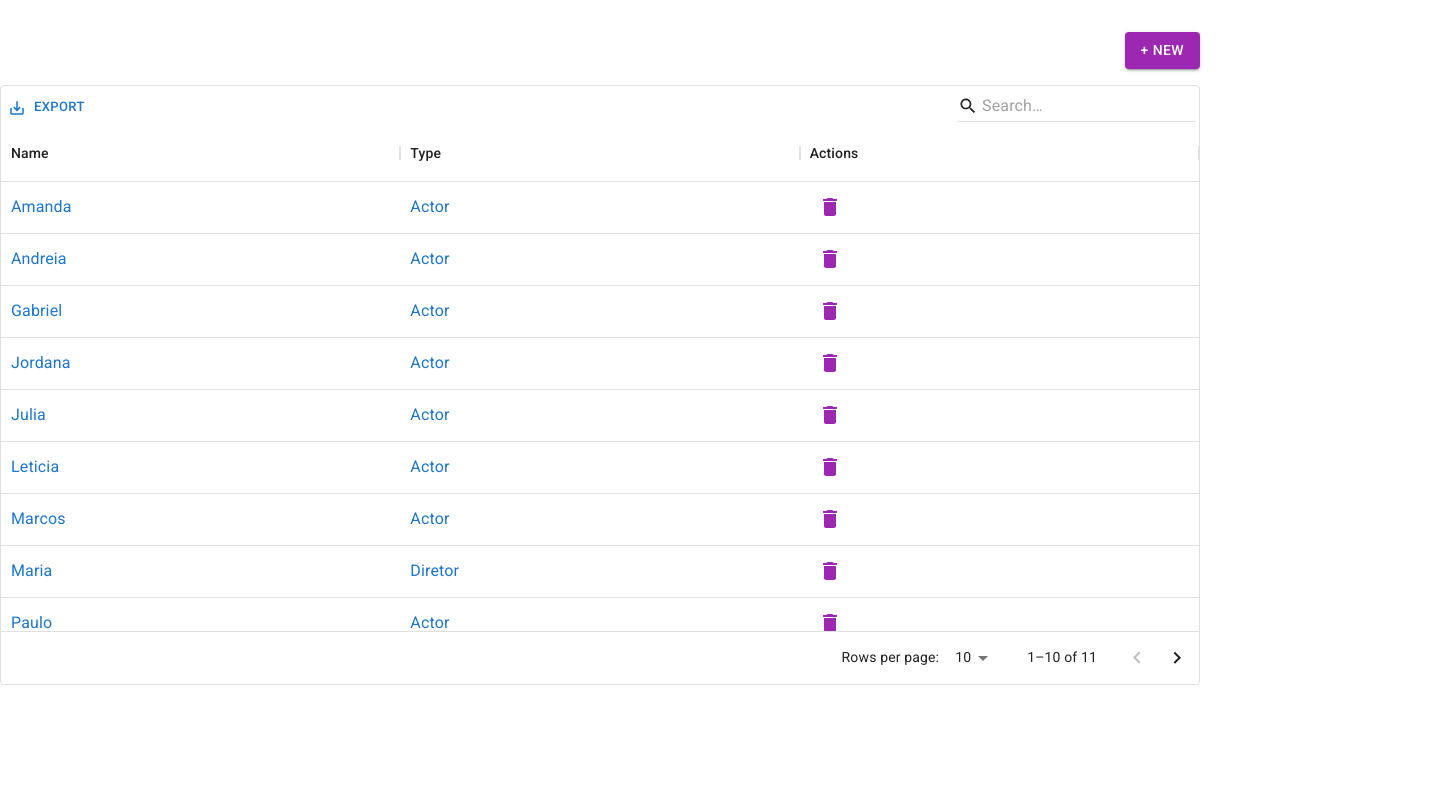
Test: List cast member › should handle on page change
The width and height of the screenshot is (1440, 810).
Expected: the text "Amanda" is shown, [11, 195, 72, 219]
Step 1. Click the button with test id "KeyboardArrowRightIcon" → (1177, 658), box [1157, 638, 1197, 678]
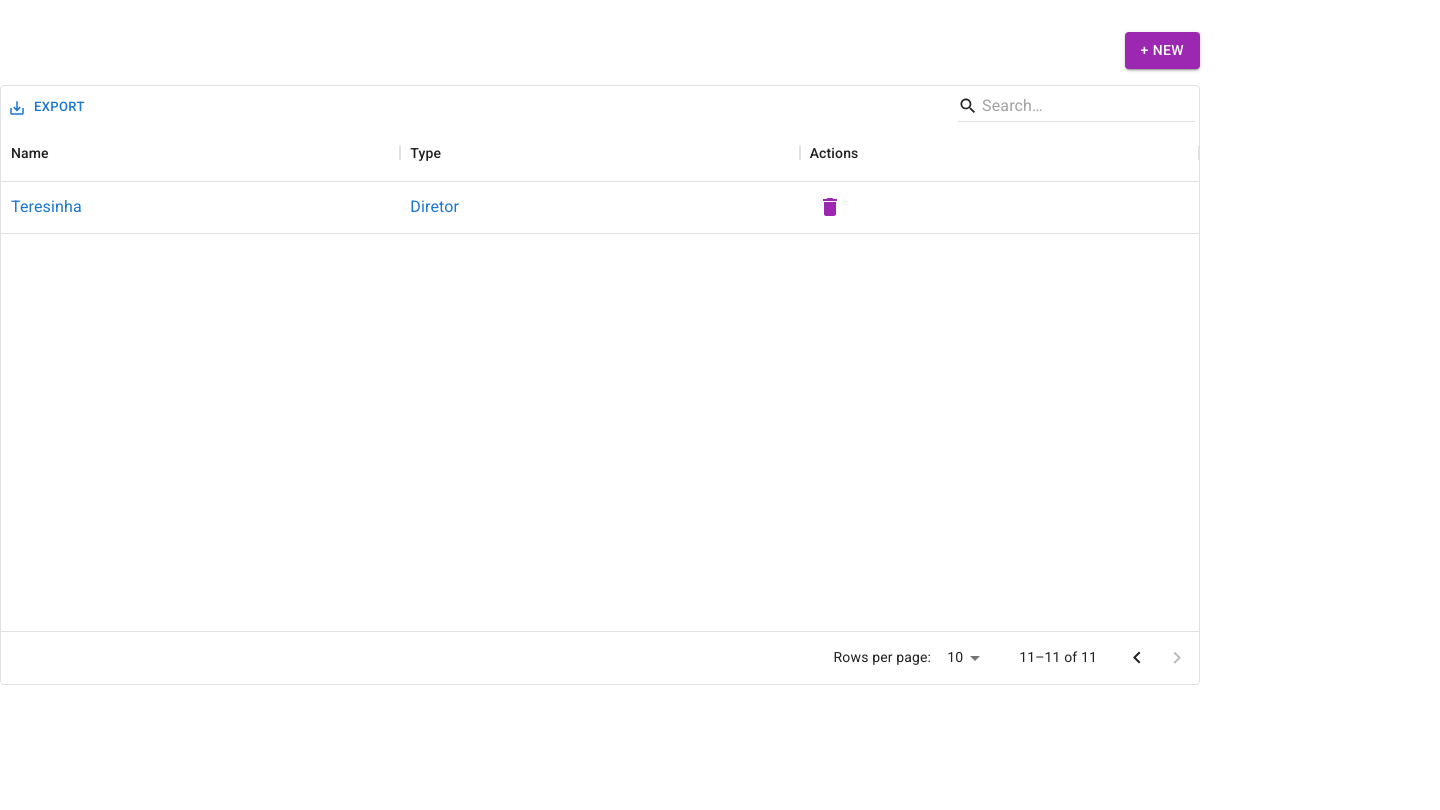
Result: the text "Teresinha" is shown at [11, 195, 82, 219]
